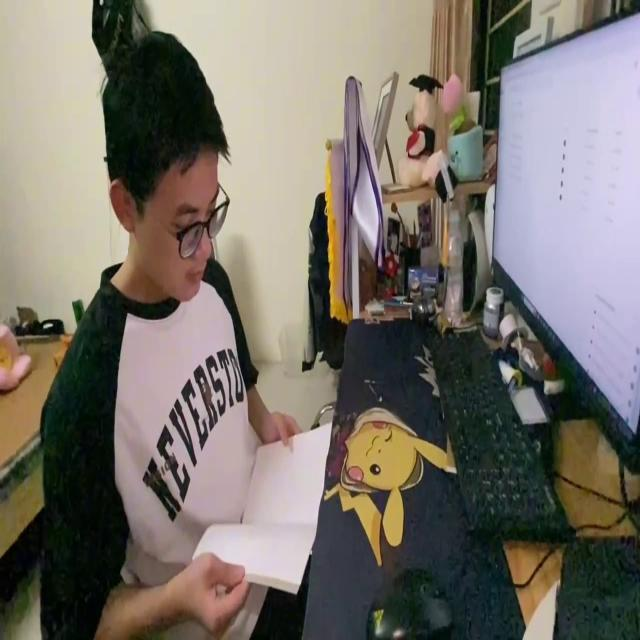book: (194, 420, 335, 600)
laptop: (489, 0, 640, 476)
student: (31, 27, 310, 634)
